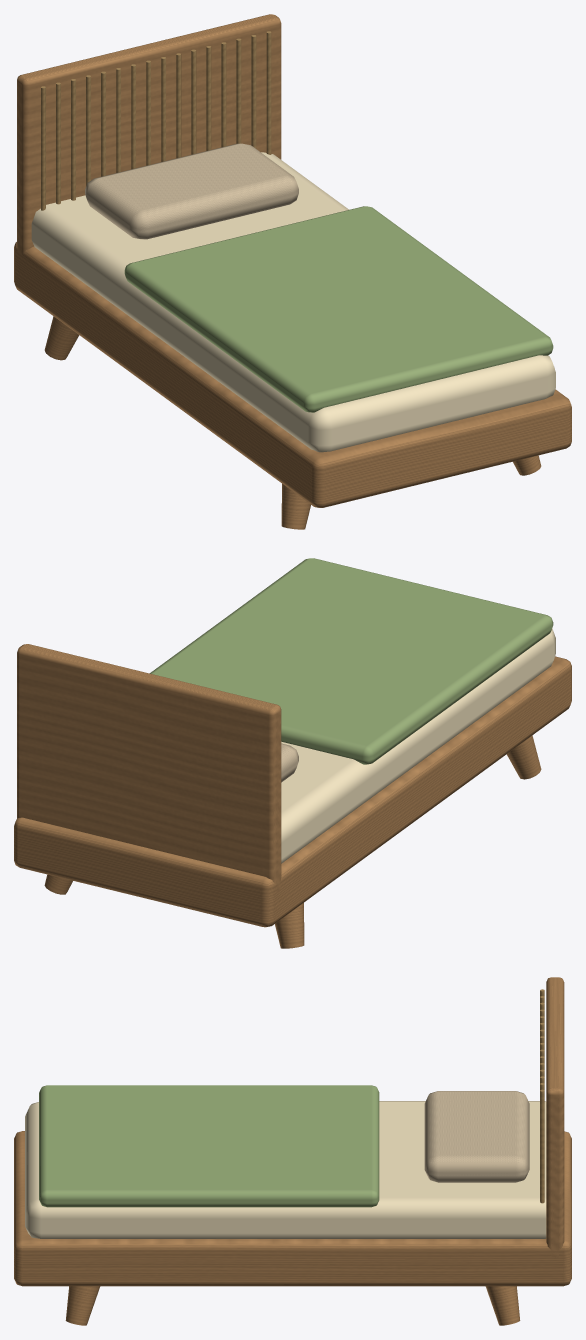
File: bed_single_fjord-457e8e8b861d.glb
3 views of the same model, one above another, from view 1: azimuth 30°, elevation 25°; view 2: azimuth 150°, elevation 25°; view 3: azimuth 270°, elevation 25° (orthographic). The views are drawn at different scales.
Parts seen in each view (by area): view 1: surface_oak, surface_sage, surface_ivory, surface_linen, surface_bamboo; view 2: surface_oak, surface_sage, surface_ivory, surface_linen; view 3: surface_sage, surface_oak, surface_ivory, surface_linen, surface_bamboo.
Part boxes in pixels (x1,y1,x2,y2): surface_oak: [14, 14, 571, 529]; surface_sage: [124, 206, 553, 412]; surface_ivory: [31, 152, 555, 452]; surface_linen: [85, 143, 298, 239]; surface_bamboo: [41, 31, 271, 210]; surface_oak: [14, 644, 571, 948]; surface_sage: [150, 558, 553, 764]; surface_ivory: [281, 629, 555, 863]; surface_linen: [281, 743, 298, 782]; surface_sage: [39, 1085, 379, 1207]; surface_oak: [14, 977, 571, 1325]; surface_ivory: [25, 1101, 546, 1238]; surface_linen: [424, 1091, 529, 1182]; surface_bamboo: [540, 989, 544, 1203].
Size of the model in its own units: 0.9633 by 0.9378 by 1.97.
5 materials, 3 textured.
